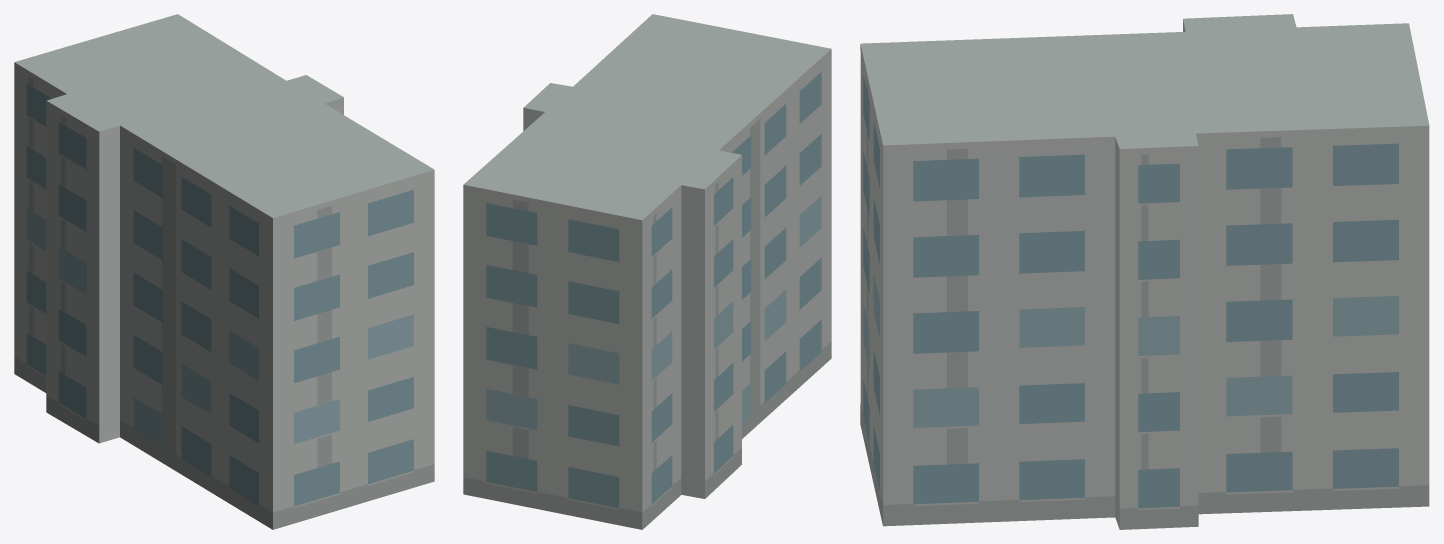
File: survey-upis-32992537.glb
3 renders of one model, left to right at view 1: azimuth 30°, elevation 25°; view 2: azimuth 150°, elevation 25°; view 3: azimuth 270°, elevation 25°, orthographic. The views are drawn at different scales.
Parts seen in each view (by area): view 1: survey-upis-32992537.tmp; view 2: survey-upis-32992537.tmp; view 3: survey-upis-32992537.tmp.
Part boxes in pixels (x1,y1,x2,y2): survey-upis-32992537.tmp: (14,14,434,529); survey-upis-32992537.tmp: (463,14,831,529); survey-upis-32992537.tmp: (860,14,1429,529).
Size of the model in its own units: 10.97 by 14.4 by 19.51.
